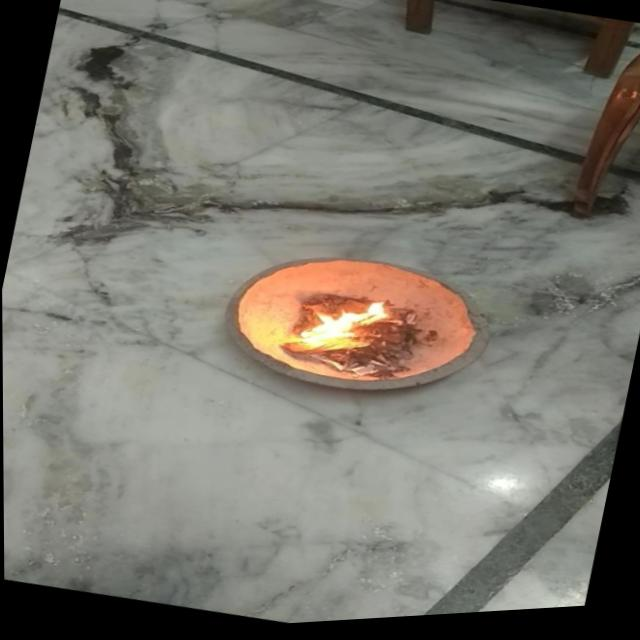fire: (282, 283, 394, 368)
